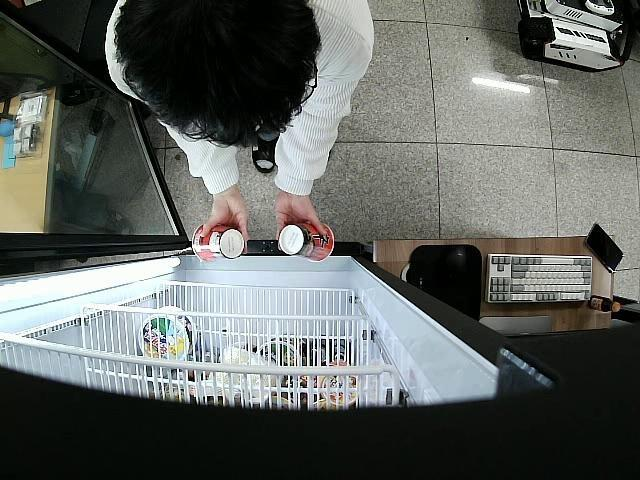02_shinRamen_S: (278, 220, 335, 265), (192, 225, 246, 262)
